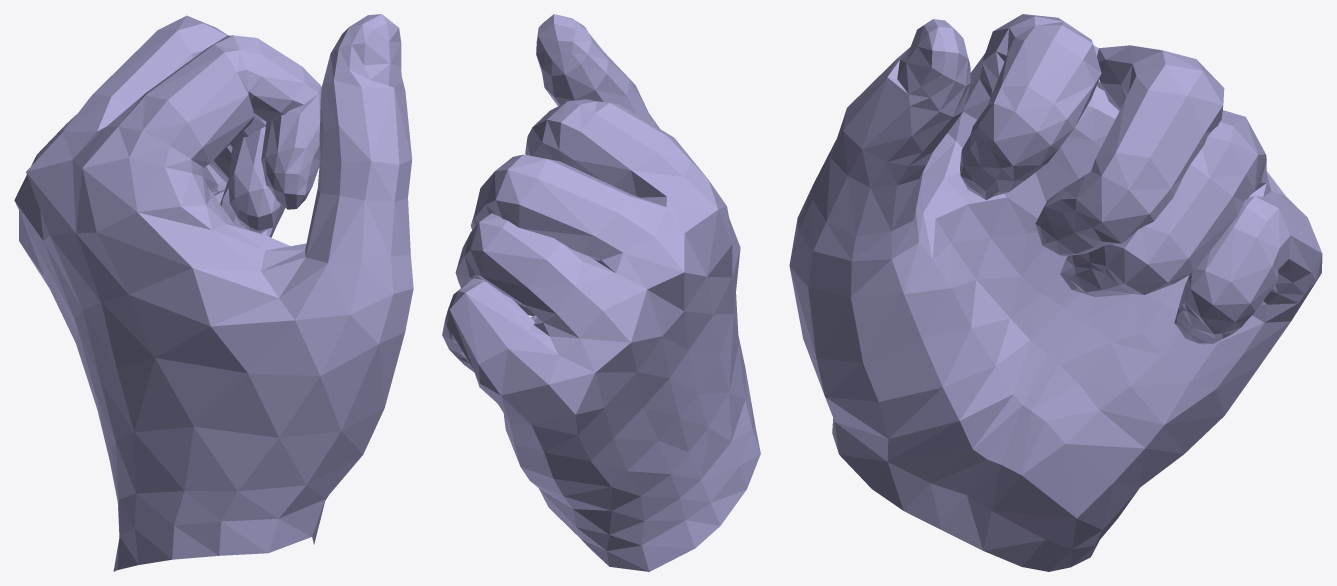
File: frame_0031_source_000031_hand.glb
3 views of the same model, side by side, from view 1: azimuth 30°, elevation 25°; view 2: azimuth 150°, elevation 25°; view 3: azimuth 270°, elevation 25° (orthographic). The views are drawn at different scales.
Visible parts, largest first — view 1: world; view 2: world; view 3: world.
Boxes of the visible parts, x1,y1,x2,y2 form: world: (14,14,413,571); world: (442,14,760,571); world: (789,14,1322,571).
Bounding box in the file's own units: 0.062 × 0.123 × 0.0987.
